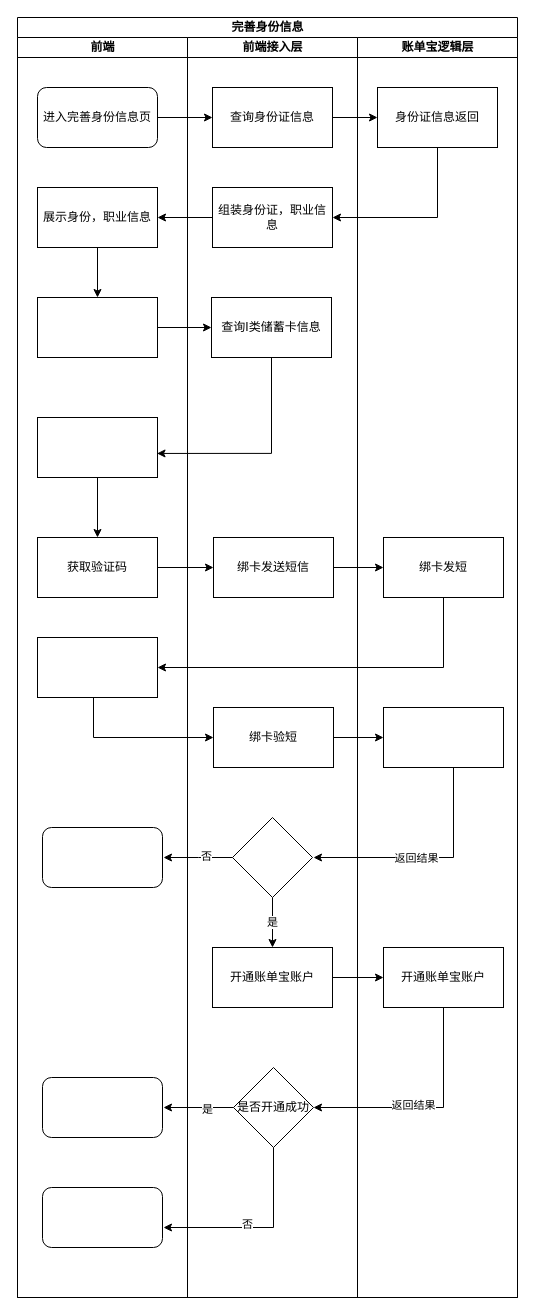
Image size: 535x1315. Some labels were removed from this diagram. The centre of each missing label's shape, as x and y in pixels:
"发起绑卡验短，确定提交身份信息" goes at point 97,667.
"展示银行卡信息，预留手机号" goes at point 97,447.
"开户失败" goes at point 102,1217.
"成功" goes at point 102,1107.
"是否验短成功" goes at point 272,857.
"绑卡短信验证" goes at point 443,737.
"选择银行卡" goes at point 97,327.
"验短失败（重新发短验短）" goes at point 102,857.
